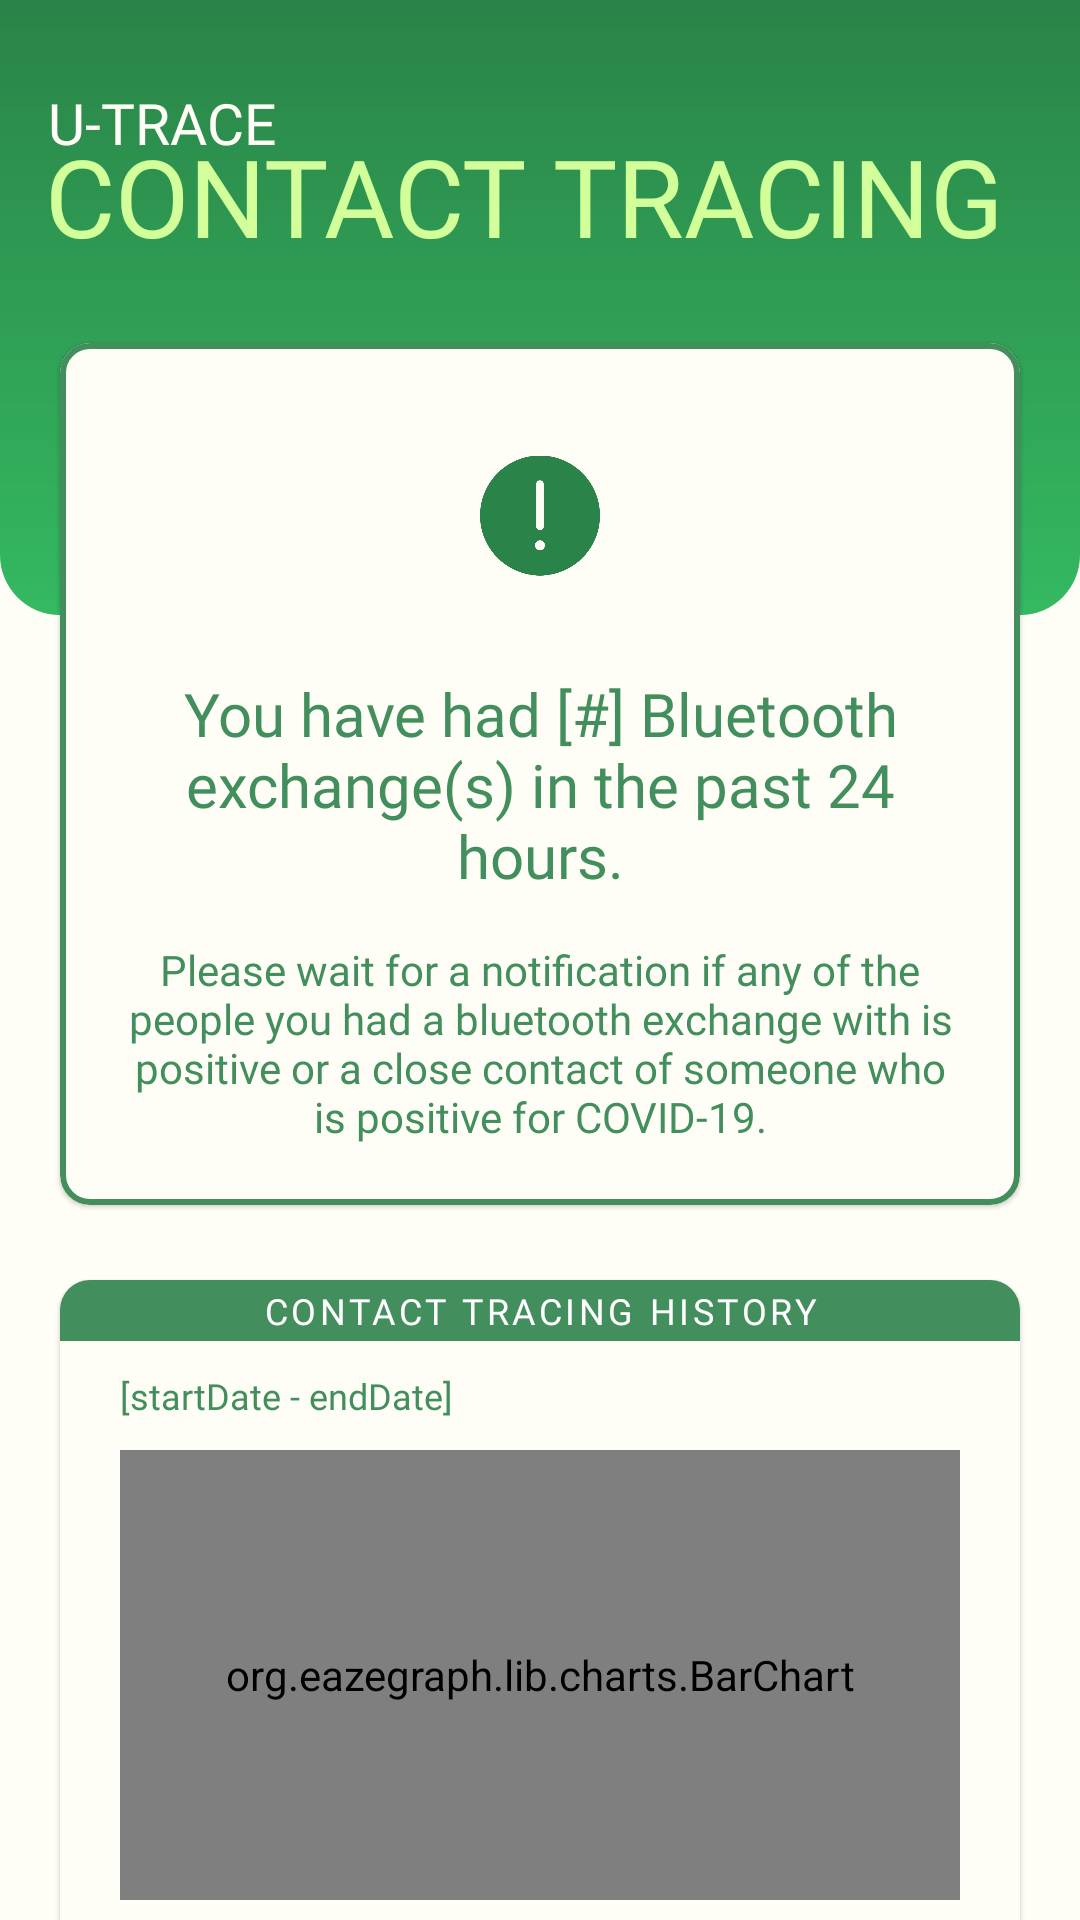

Icon bounding boxes for this 1080 x 1920 phone screenshot, format (x1=x1, y1=y1, x2=x2, y2=y2):
exclamation: (x1=480, y1=456, x2=600, y2=576)
